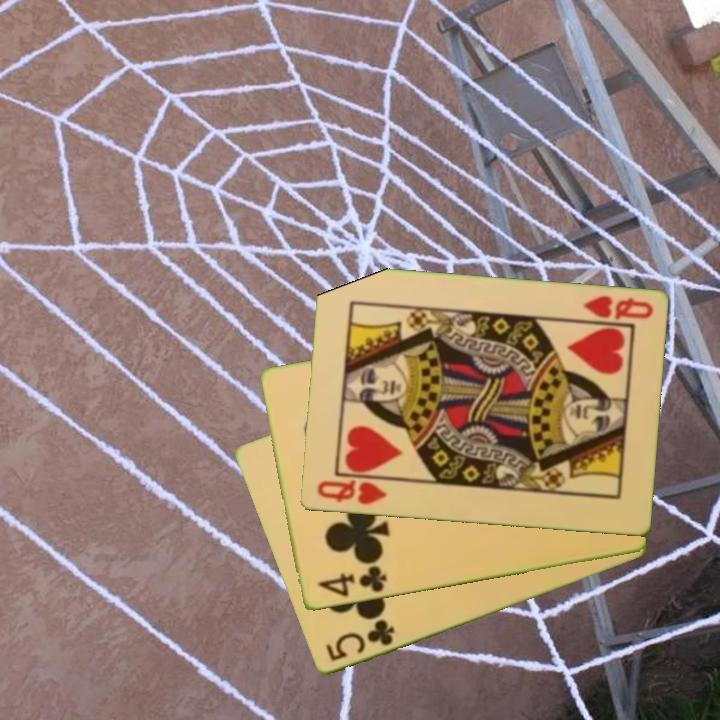4c: (313, 562, 389, 600)
5c: (322, 616, 398, 665)
Qh: (313, 476, 389, 508), (579, 292, 656, 323)
